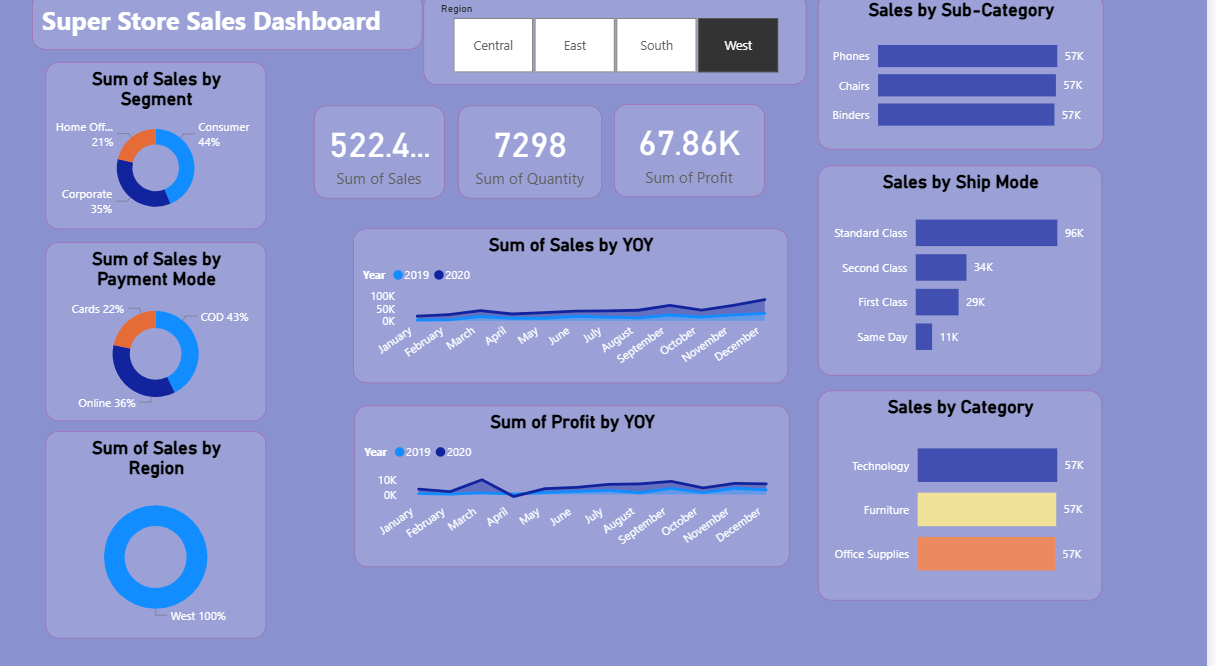

The page's visual inventory and layout, read from the dashboard file:
{"tool":"powerbi","page":{"name":"Page 1","canvas":[1280,720],"ordinal":0},"visuals":[{"type":"clusteredBarChart","title":" Sales by Sub-Category","fields":{"Category":["SuperStore_Sales_Dataset.Sub-Category"],"Y":["Sum(SuperStore_Sales_Dataset.Sales)"]},"box":[868.6,0,302.9,165.7],"z":0},{"type":"clusteredBarChart","title":" Sales by Ship Mode","fields":{"Category":["SuperStore_Sales_Dataset.Ship Mode"],"Y":["Sum(SuperStore_Sales_Dataset.Sales)"]},"box":[868.6,182.9,301.4,222.9],"z":1000},{"type":"stackedAreaChart","title":"Sum of Sales by YOY","fields":{"Y":["Sum(SuperStore_Sales_Dataset.Sales)"],"Category":["SuperStore_Sales_Dataset.Order Date.Variation.Date Hierarchy.Month","SuperStore_Sales_Dataset.Order Date.Variation.Date Hierarchy.Day"],"Series":["SuperStore_Sales_Dataset.Order Date.Variation.Date Hierarchy.Year"]},"box":[375.7,250,461.4,164.3],"z":2000},{"type":"stackedAreaChart","title":"Sum of Profit by YOY","fields":{"Category":["SuperStore_Sales_Dataset.Order Date.Variation.Date Hierarchy.Month","SuperStore_Sales_Dataset.Order Date.Variation.Date Hierarchy.Day"],"Series":["SuperStore_Sales_Dataset.Order Date.Variation.Date Hierarchy.Year"],"Y":["Sum(SuperStore_Sales_Dataset.Profit)"]},"box":[377.1,437.1,461.4,171.4],"z":3000},{"type":"donutChart","fields":{"Category":["SuperStore_Sales_Dataset.Segment"],"Y":["Sum(SuperStore_Sales_Dataset.Sales)"]},"box":[48.6,72.9,234.3,177.1],"z":4000},{"type":"clusteredBarChart","title":" Sales by Category","fields":{"Category":["SuperStore_Sales_Dataset.Category"],"Y":["Sum(SuperStore_Sales_Dataset.Sales)"]},"box":[868.6,421.4,301.4,222.9],"z":5000},{"type":"donutChart","fields":{"Category":["SuperStore_Sales_Dataset.Payment Mode"],"Y":["Sum(SuperStore_Sales_Dataset.Sales)"]},"box":[48.6,264.3,234.3,190],"z":6000},{"type":"slicer","fields":{"Values":["SuperStore_Sales_Dataset.Region"]},"box":[450,0,405.7,97.1],"z":7000},{"type":"textbox","box":[35.7,0,414.3,60],"z":8000},{"type":"card","fields":{"Values":["Sum(SuperStore_Sales_Dataset.Sales)"]},"box":[334.3,118.6,138.6,98.6],"z":9000},{"type":"card","fields":{"Values":["Sum(SuperStore_Sales_Dataset.Quantity)"]},"box":[487.1,118.6,152.9,98.6],"z":10000},{"type":"card","fields":{"Values":["Sum(SuperStore_Sales_Dataset.Profit)"]},"box":[652.9,117.1,160,98.6],"z":11000},{"type":"donutChart","fields":{"Category":["SuperStore_Sales_Dataset.Region"],"Y":["Sum(SuperStore_Sales_Dataset.Sales)"]},"box":[48.6,464.3,234.3,220],"z":12000}]}

Visuals, with their boxes in screenshot pixels (x1, y1, x2, y2), scaled from the page's 1280x720 canvas onto the 1216x666 screenshot:
" Sales by Sub-Category" clusteredBarChart: crop(825, 0, 1113, 153)
" Sales by Ship Mode" clusteredBarChart: crop(825, 169, 1112, 375)
"Sum of Sales by YOY" stackedAreaChart: crop(357, 231, 795, 383)
"Sum of Profit by YOY" stackedAreaChart: crop(358, 404, 797, 563)
donutChart - SuperStore_Sales_Dataset.Segment x Sum(SuperStore_Sales_Dataset.Sales): crop(46, 67, 269, 231)
" Sales by Category" clusteredBarChart: crop(825, 390, 1112, 596)
donutChart - SuperStore_Sales_Dataset.Payment Mode x Sum(SuperStore_Sales_Dataset.Sales): crop(46, 244, 269, 420)
slicer - SuperStore_Sales_Dataset.Region: crop(428, 0, 813, 90)
textbox: crop(34, 0, 428, 56)
card - Sum(SuperStore_Sales_Dataset.Sales): crop(318, 110, 449, 201)
card - Sum(SuperStore_Sales_Dataset.Quantity): crop(463, 110, 608, 201)
card - Sum(SuperStore_Sales_Dataset.Profit): crop(620, 108, 772, 200)
donutChart - SuperStore_Sales_Dataset.Region x Sum(SuperStore_Sales_Dataset.Sales): crop(46, 429, 269, 633)
